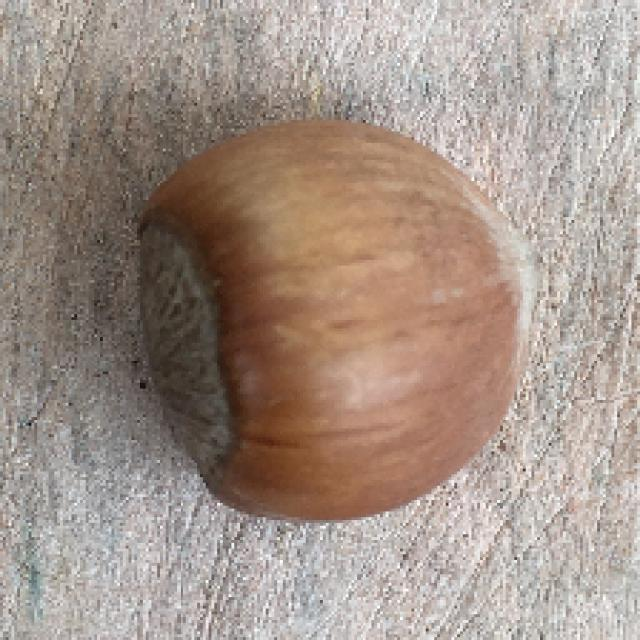qualityHazelnut: (119, 121, 540, 529)
